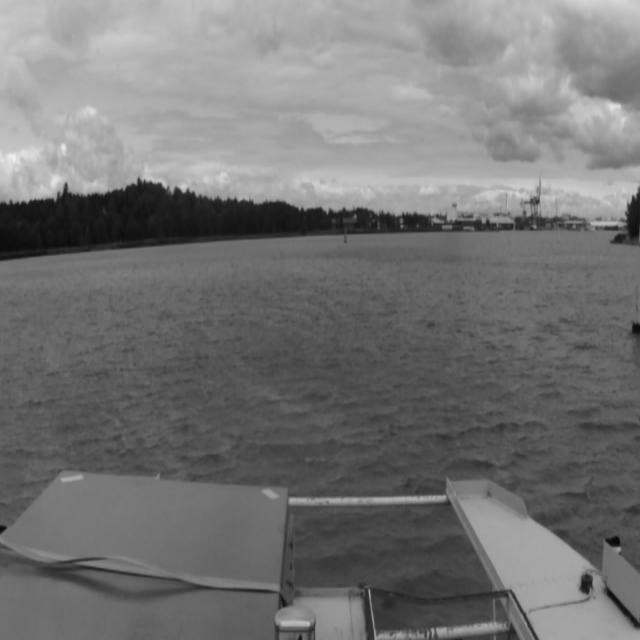buoy: (554, 215, 558, 250), (344, 228, 347, 242)
